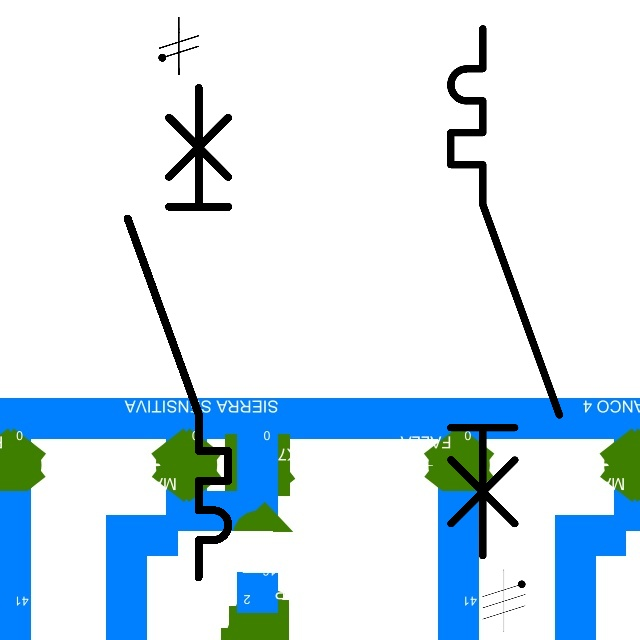interruptor_termomagnetico: (437, 15, 573, 570), (115, 75, 241, 590)
